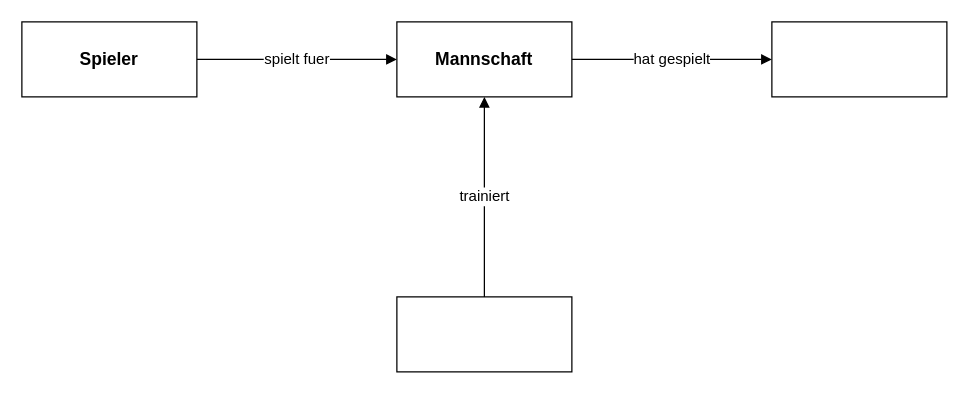
Some shapes in this 969 by 394 pixel diagram are drawn without their labels. The shapes that lost their labels are listed below. From the top down, each one's centre as x and y in pixels, then its label:
At point (859, 59): "Spiel".
At point (484, 334): "Trainer".
